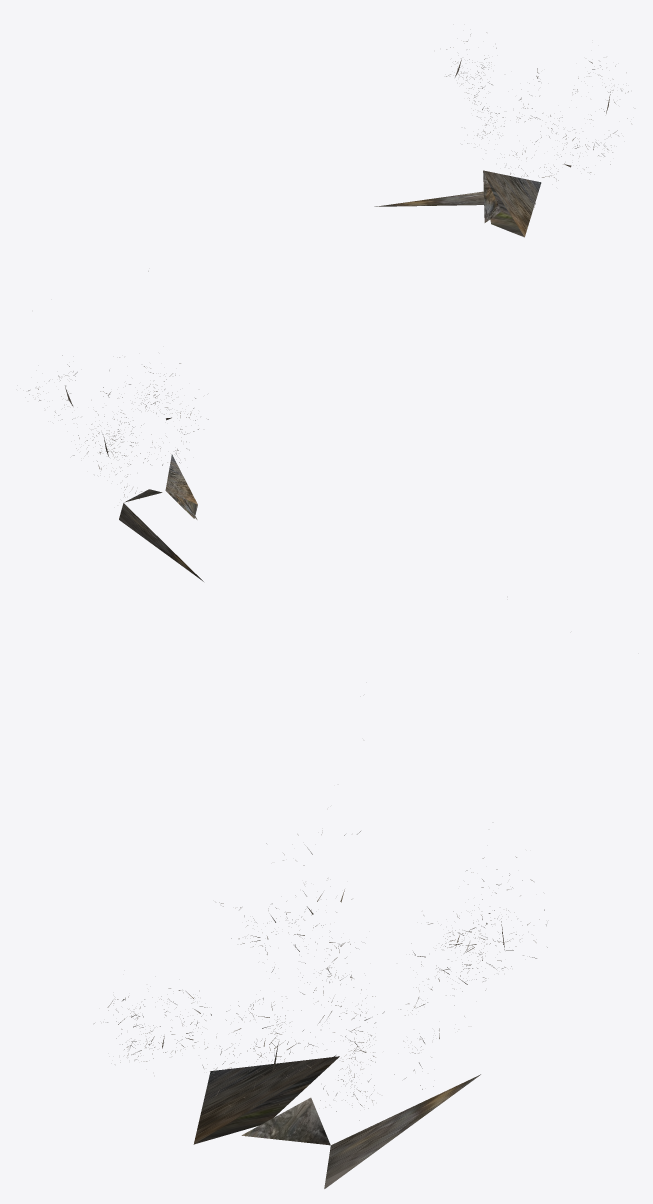
Rendered from island_tree_03.fbx.
3 views of the same model, one above another, from view 1: azimuth 30°, elevation 25°; view 2: azimuth 150°, elevation 25°; view 3: azimuth 270°, elevation 25° (orthographic). The views are drawn at different scales.
Parts seen in each view (by area): view 1: island_tree_03_LOD0.001; view 2: island_tree_03_LOD0.001; view 3: island_tree_03_LOD0.001.
Part boxes in pixels (x1,y1,x2,y2): island_tree_03_LOD0.001: (148, 32, 631, 271); island_tree_03_LOD0.001: (28, 355, 208, 581); island_tree_03_LOD0.001: (94, 830, 547, 1188).
Size of what is drawn, in the model's own units: 838 by 242 by 283.
Materials: 2 (2 with a texture image).
